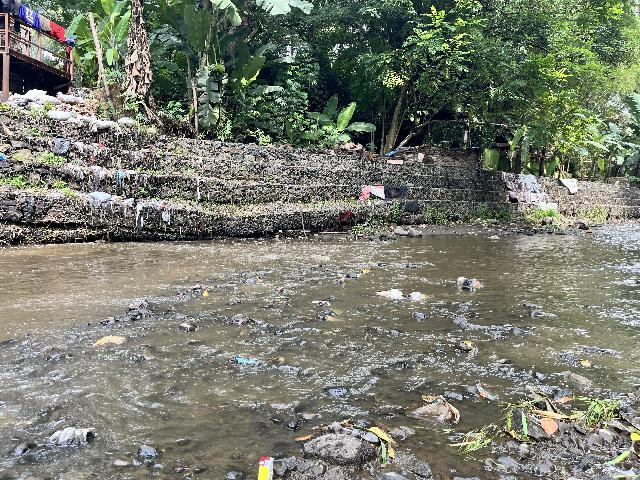Sampah Anorganik: (414, 392, 461, 425), (474, 380, 498, 404), (230, 352, 261, 367), (373, 288, 405, 301), (257, 455, 273, 480), (409, 288, 430, 302), (308, 301, 331, 307), (358, 268, 372, 274), (277, 286, 283, 292)
Sampah Organik: (502, 396, 565, 435), (435, 425, 496, 458), (356, 423, 402, 465), (580, 394, 621, 429), (451, 273, 486, 293), (94, 334, 128, 348), (460, 339, 479, 356), (288, 434, 316, 441), (306, 424, 328, 431), (97, 317, 115, 325), (271, 356, 285, 366), (579, 359, 592, 369), (331, 308, 344, 316), (255, 276, 263, 283), (202, 290, 210, 297), (340, 276, 345, 282)
